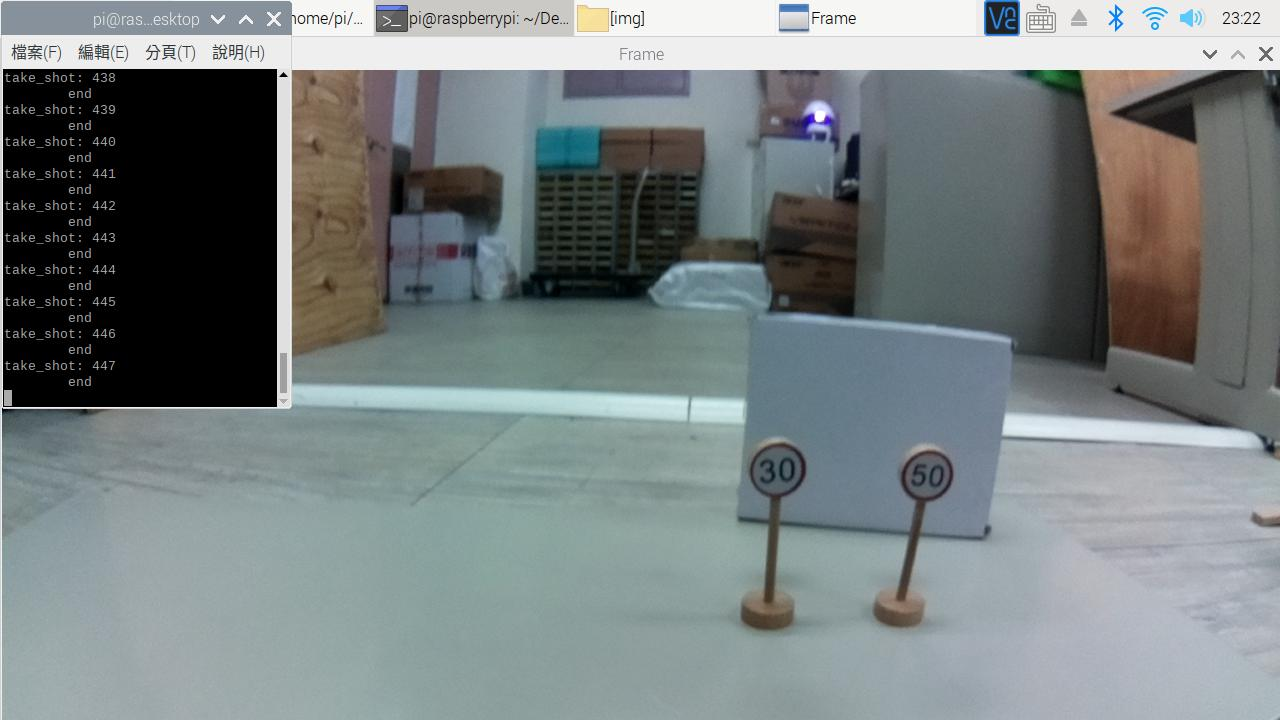Speed30: (735, 429, 830, 509)
Speed50: (873, 436, 978, 511)
